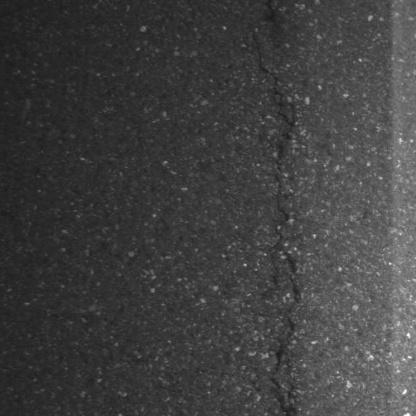Cracks: (254, 48, 305, 309), (268, 313, 301, 416)
